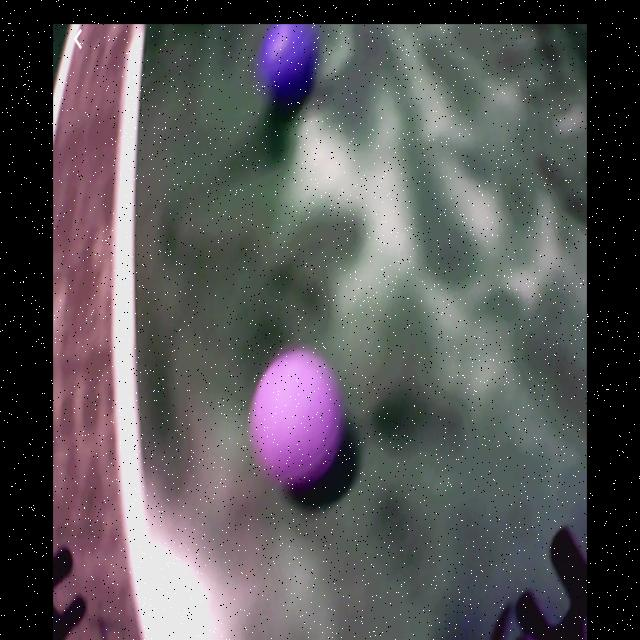ball: (250, 350, 343, 494), (262, 26, 320, 104)
